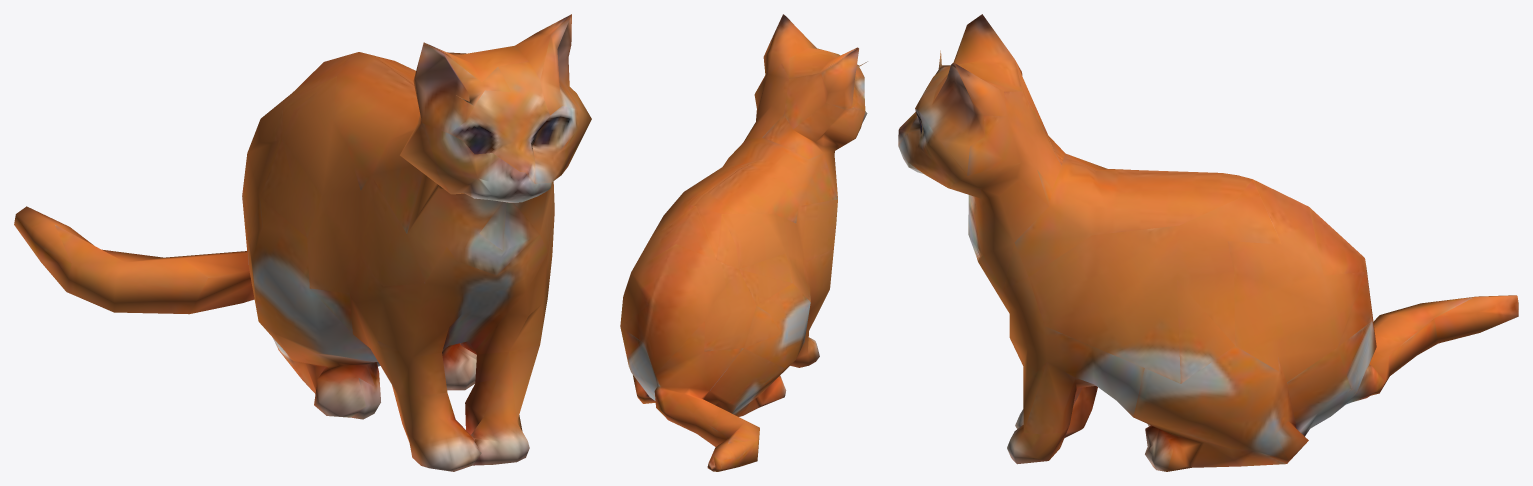
File: prop3d-cat.glb
The picture shows the model from 3 angles, left to right: view 1: azimuth 30°, elevation 25°; view 2: azimuth 150°, elevation 25°; view 3: azimuth 270°, elevation 25°; orthographic projection. The views are drawn at different scales.
Bounding box in the file's own units: 0.9999 × 1.44 × 2.
1 material, 1 textured.
